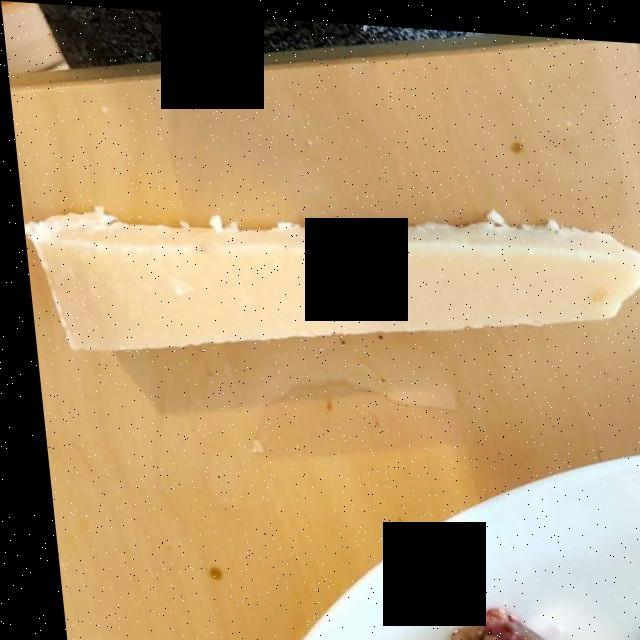cheese: (27, 204, 634, 344)
